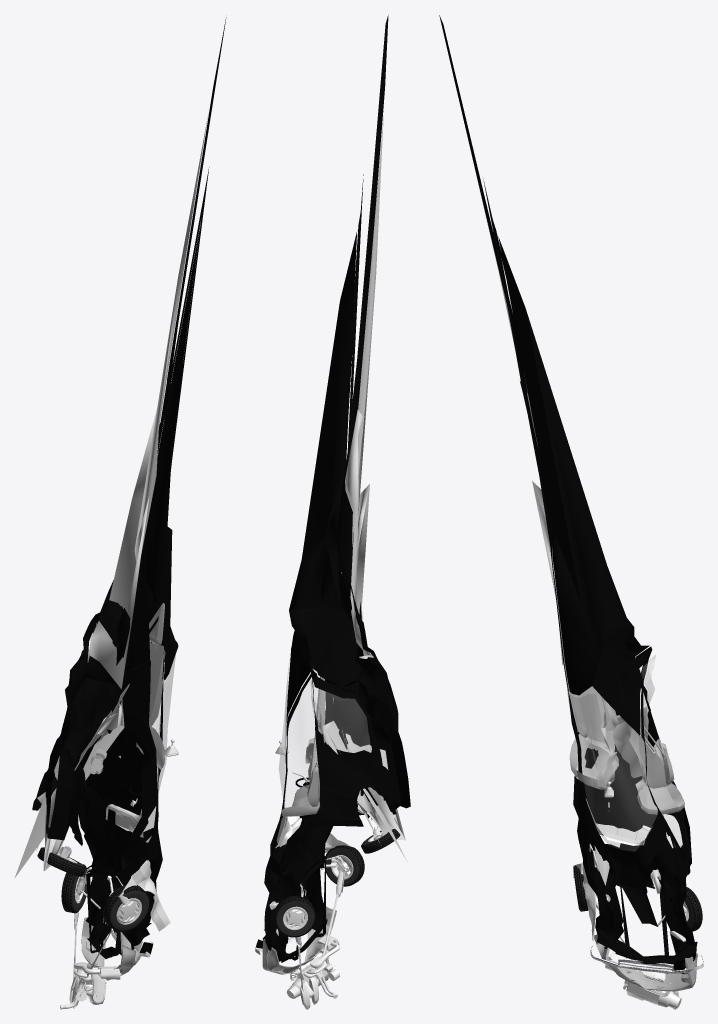
The model's file is crash11.fbx.
3 renders of one model, left to right at view 1: azimuth 30°, elevation 25°; view 2: azimuth 150°, elevation 25°; view 3: azimuth 270°, elevation 25°, orthographic. The views are drawn at different scales.
Parts seen in each view (by area): view 1: Mesh_0521_rip1, Mesh_0456_rip, Mesh_0459_rip, Mesh_0538_rip.002, Mesh_0687_rip, Mesh_0503_rip, Mesh_0728_rip, Mesh_0630_rip1, Mesh_0461_rip, Mesh_0538_rip.000, Mesh_0538_rip.001, Mesh_0482_rip; view 2: Mesh_0521_rip1, Mesh_0728_rip, Mesh_0736_rip, Mesh_0456_rip, Mesh_0586_rip1, Mesh_0687_rip, Mesh_0538_rip.000, spin_thing, Mesh_0538_rip.002, Mesh_0630_rip1, Mesh_0459_rip, Mesh_0461_rip (+2 smaller); view 3: Mesh_0521_rip1, Mesh_0728_rip, Mesh_0459_rip, Mesh_0586_rip1, Mesh_0687_rip, Mesh_0461_rip, Mesh_0456_rip, Mesh_0714_rip1, Mesh_0524_rip.
Part boxes in pixels (x1=…): Mesh_0521_rip1: x1=32, y1=17, x2=226, y2=958; Mesh_0456_rip: x1=14, y1=683, x2=129, y2=878; Mesh_0459_rip: x1=118, y1=603, x2=165, y2=769; Mesh_0538_rip.002: x1=103, y1=884, x2=149, y2=931; Mesh_0687_rip: x1=81, y1=917, x2=140, y2=980; Mesh_0503_rip: x1=118, y1=860, x2=170, y2=931; Mesh_0728_rip: x1=152, y1=654, x2=175, y2=792; Mesh_0630_rip1: x1=73, y1=962, x2=106, y2=1004; Mesh_0461_rip: x1=105, y1=804, x2=156, y2=837; Mesh_0538_rip.000: x1=61, y1=864, x2=87, y2=913; Mesh_0538_rip.001: x1=37, y1=847, x2=85, y2=876; Mesh_0482_rip: x1=116, y1=898, x2=141, y2=924; Mesh_0521_rip1: x1=262, y1=15, x2=410, y2=962; Mesh_0728_rip: x1=278, y1=659, x2=319, y2=807; Mesh_0736_rip: x1=310, y1=679, x2=370, y2=752; Mesh_0456_rip: x1=322, y1=696, x2=407, y2=861; Mesh_0586_rip1: x1=281, y1=729, x2=320, y2=816; Mesh_0687_rip: x1=262, y1=906, x2=336, y2=974; Mesh_0538_rip.000: x1=273, y1=896, x2=315, y2=937; spin_thing: x1=295, y1=870, x2=343, y2=1009; Mesh_0538_rip.002: x1=324, y1=845, x2=364, y2=886; Mesh_0630_rip1: x1=294, y1=949, x2=339, y2=986; Mesh_0459_rip: x1=305, y1=676, x2=325, y2=763; Mesh_0461_rip: x1=275, y1=779, x2=309, y2=848; Mesh_0521_rip1: x1=439, y1=15, x2=697, y2=973; Mesh_0728_rip: x1=570, y1=694, x2=657, y2=851; Mesh_0459_rip: x1=564, y1=661, x2=618, y2=789; Mesh_0586_rip1: x1=627, y1=723, x2=684, y2=814; Mesh_0687_rip: x1=594, y1=934, x2=697, y2=991; Mesh_0461_rip: x1=585, y1=798, x2=682, y2=848; Mesh_0456_rip: x1=613, y1=704, x2=648, y2=777; Mesh_0714_rip1: x1=590, y1=946, x2=703, y2=973; Mesh_0524_rip: x1=589, y1=844, x2=686, y2=942.
Bounding box in the file's own units: 3.81 × 24.64 × 5.86.
6 materials, 1 textured.
